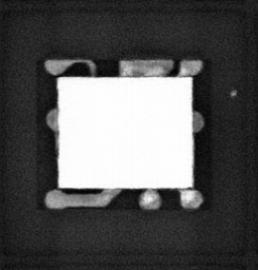DIE_INK: (229, 88, 238, 98)
